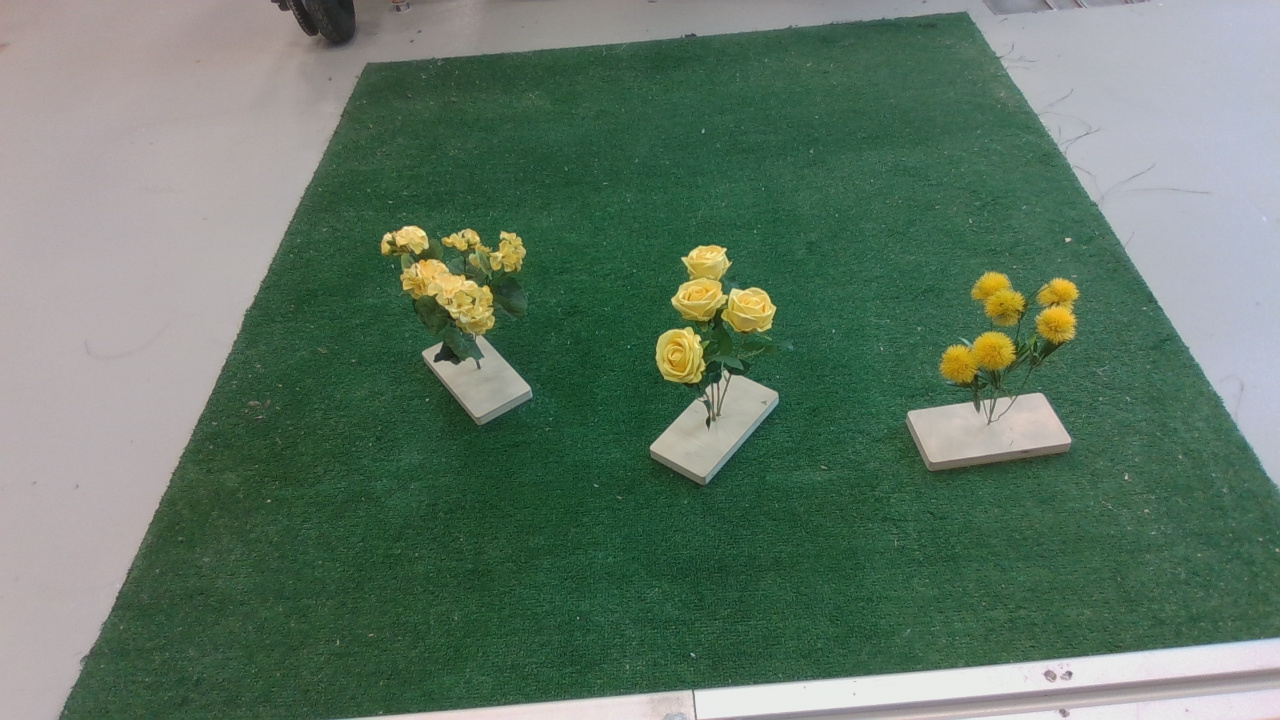dandelion: (931, 272, 1092, 405)
geranium: (367, 212, 545, 380)
rose: (652, 238, 786, 420)
